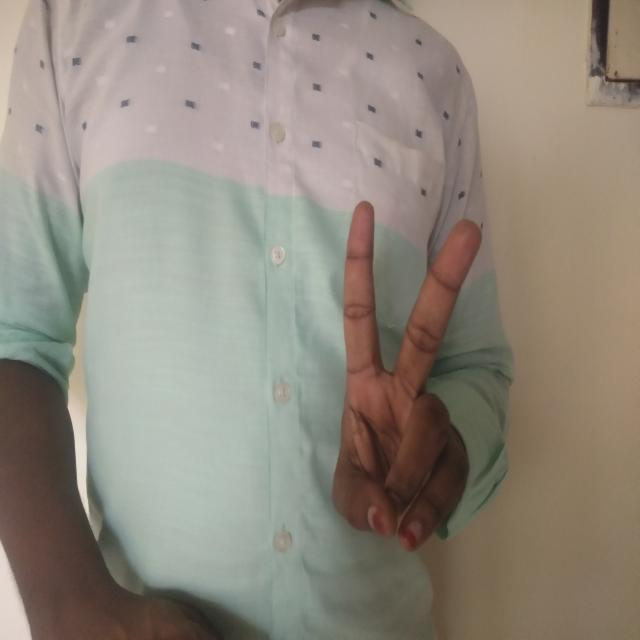V: (305, 182, 489, 587)
